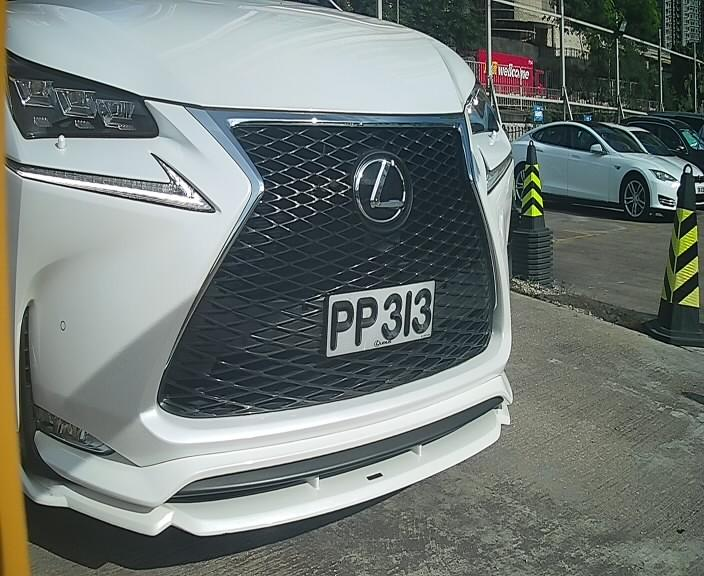License Plate: (318, 265, 447, 371)
